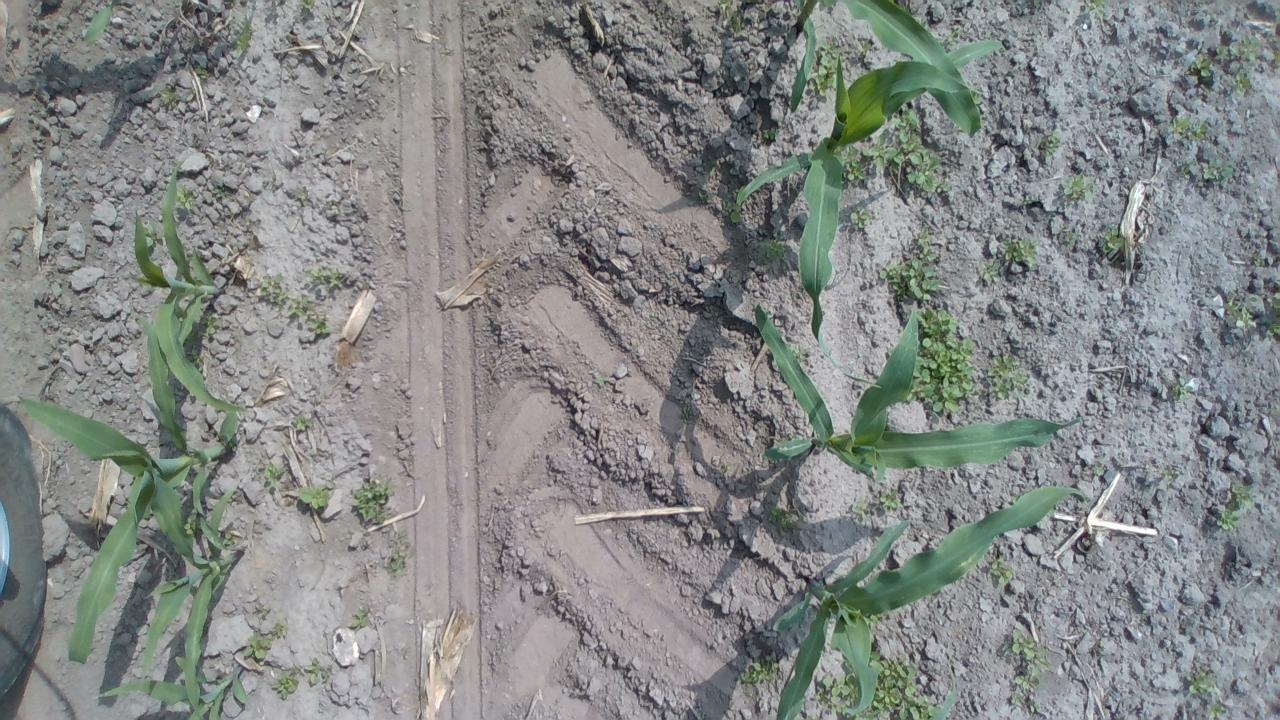Maize: (738, 38, 1006, 389), (19, 309, 240, 667), (770, 484, 1086, 720), (751, 296, 1083, 487), (97, 449, 242, 720), (126, 160, 243, 412), (789, 0, 984, 137), (100, 655, 247, 720)
Weeds: (905, 307, 979, 414), (866, 650, 940, 720), (892, 108, 941, 193), (879, 258, 940, 300), (815, 661, 860, 715), (808, 43, 846, 96), (78, 0, 120, 47), (987, 355, 1029, 400), (354, 479, 394, 526), (1009, 629, 1052, 671), (286, 296, 332, 334), (738, 655, 778, 695), (259, 272, 286, 310), (841, 144, 868, 181), (1000, 241, 1038, 265), (868, 136, 896, 168), (1062, 175, 1095, 202), (387, 531, 407, 575), (1202, 159, 1233, 187), (299, 484, 332, 509), (1224, 298, 1251, 327), (769, 506, 799, 532), (304, 267, 342, 287), (1186, 668, 1214, 694), (1232, 36, 1260, 61), (916, 227, 936, 261), (272, 674, 298, 700), (1218, 502, 1240, 532), (243, 636, 270, 660), (1232, 483, 1256, 510), (305, 658, 329, 684), (991, 557, 1014, 584), (178, 506, 198, 536), (764, 236, 788, 260), (1100, 228, 1124, 252), (173, 184, 195, 210), (878, 488, 903, 510), (1014, 668, 1040, 689), (1042, 132, 1061, 160), (850, 206, 874, 228), (142, 223, 164, 247), (198, 314, 220, 338), (1168, 116, 1190, 140), (264, 462, 284, 487), (851, 498, 870, 524), (1232, 72, 1252, 96), (236, 25, 252, 55), (1084, 0, 1108, 19), (980, 261, 1000, 283), (1190, 54, 1210, 76), (723, 201, 742, 222), (1172, 382, 1191, 402), (159, 85, 179, 104), (788, 344, 806, 364), (1187, 123, 1208, 140), (846, 709, 878, 720), (290, 414, 312, 430), (1180, 158, 1196, 180), (350, 611, 370, 628), (189, 349, 205, 369), (970, 86, 982, 112), (726, 11, 742, 30), (270, 622, 287, 639), (946, 28, 962, 46), (181, 326, 197, 344), (1206, 702, 1224, 718), (1267, 292, 1280, 312), (868, 612, 884, 628), (1266, 318, 1280, 336), (718, 0, 732, 17), (212, 185, 228, 198), (1271, 48, 1280, 70), (218, 532, 232, 546), (1215, 46, 1229, 60), (762, 128, 778, 140), (937, 180, 950, 194), (682, 406, 694, 421), (196, 68, 210, 80), (709, 161, 720, 176), (255, 604, 268, 616), (297, 186, 307, 200), (860, 43, 871, 55), (229, 438, 239, 451), (186, 87, 196, 100), (1253, 254, 1263, 267), (1066, 231, 1076, 244), (593, 377, 607, 386), (1028, 701, 1038, 712), (302, 0, 314, 9), (1094, 462, 1102, 475), (1163, 472, 1176, 480), (697, 190, 707, 200), (1013, 696, 1024, 705), (240, 195, 252, 203), (1010, 494, 1020, 503), (1098, 648, 1108, 656), (887, 348, 896, 356), (722, 463, 732, 470), (1022, 198, 1032, 204), (290, 667, 298, 674), (227, 495, 234, 502), (1047, 509, 1054, 516), (332, 208, 340, 214), (1033, 0, 1040, 6), (246, 219, 252, 226)
